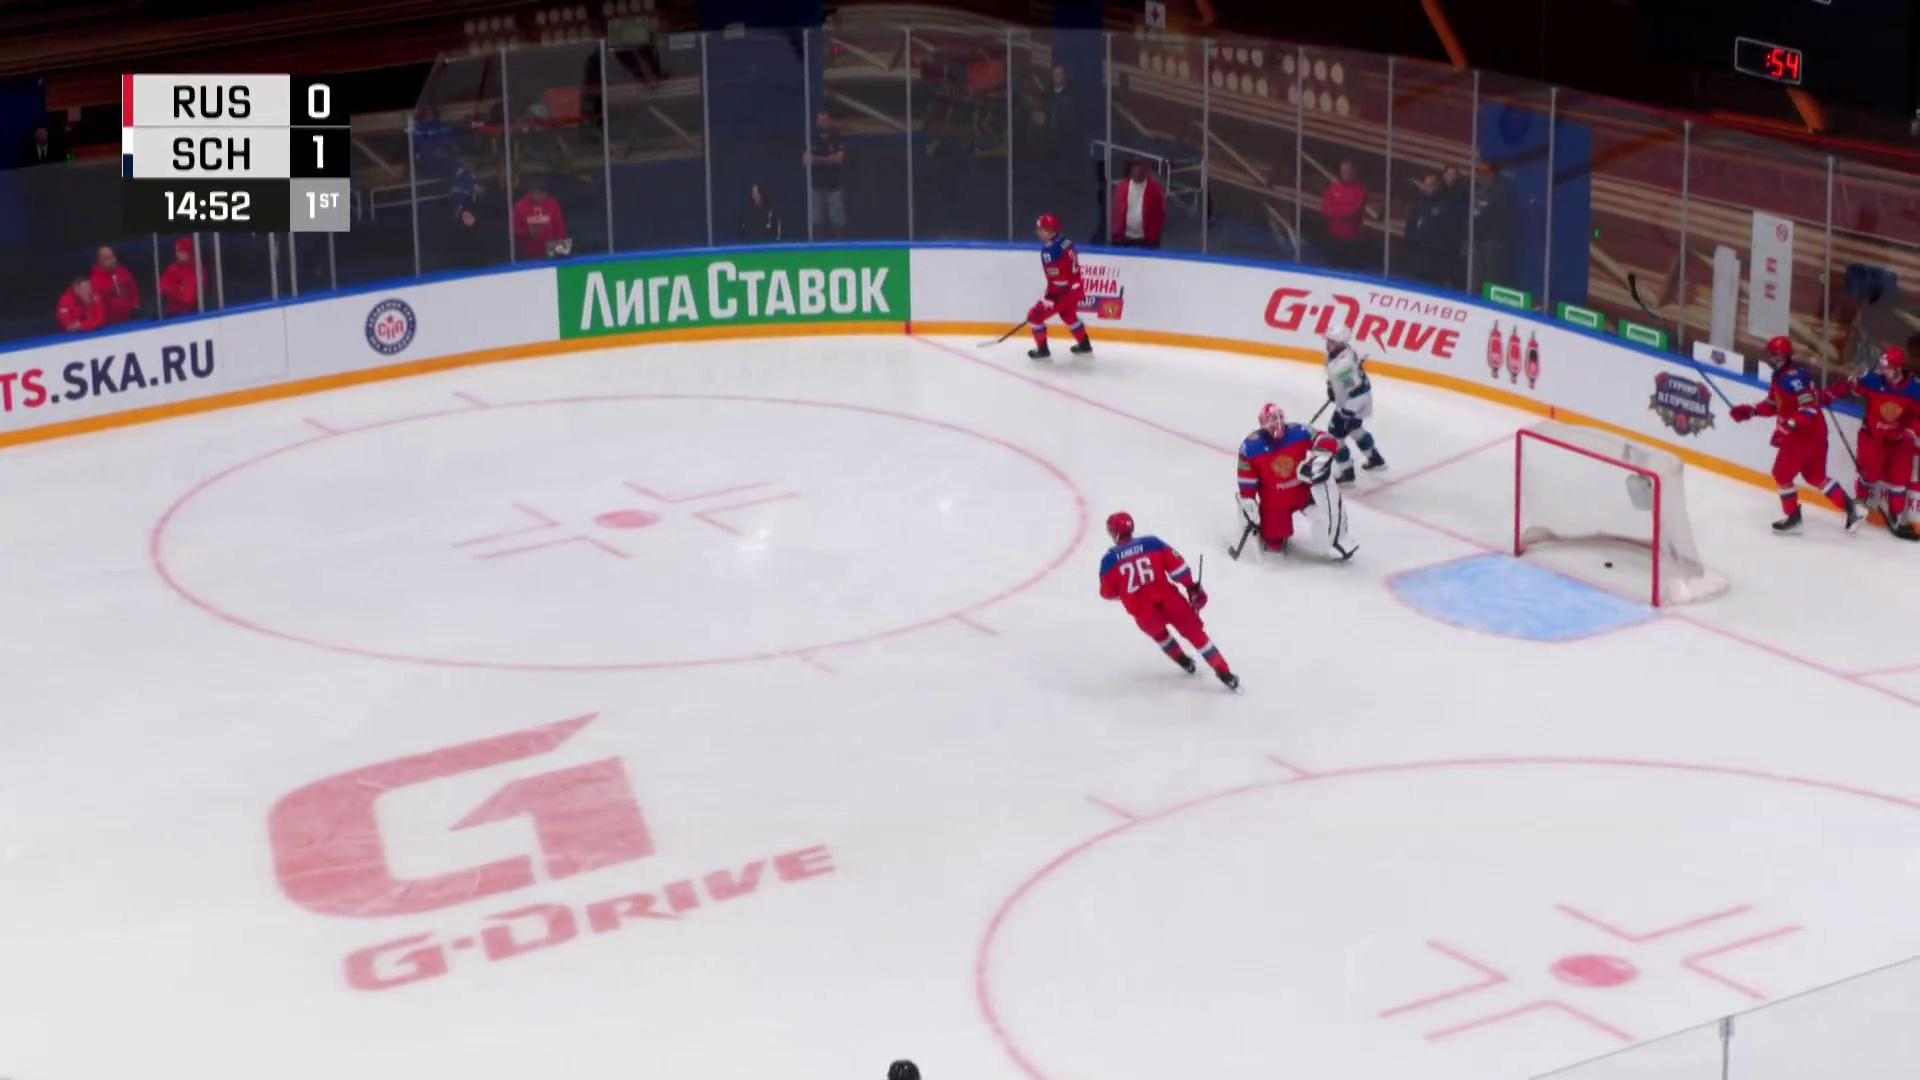ball: (1604, 562, 1613, 568)
